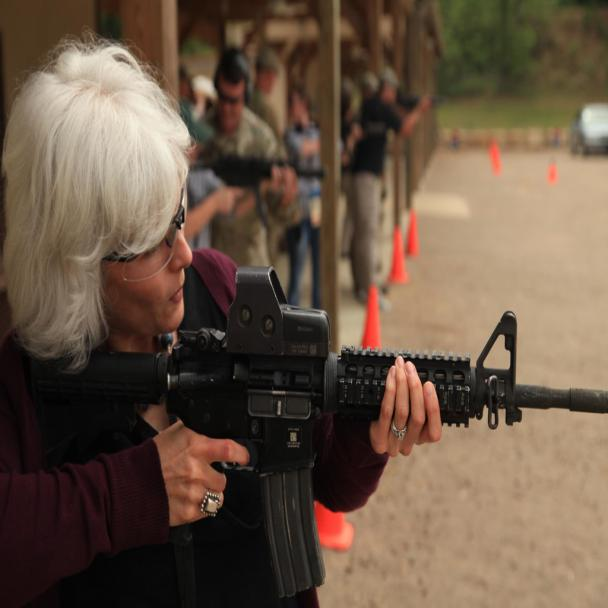Hand: (73, 262, 607, 488), (135, 411, 256, 551), (360, 354, 452, 480)
